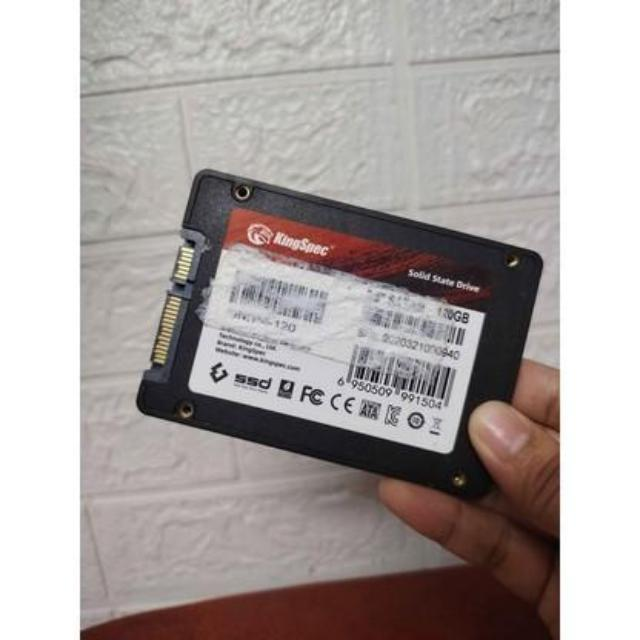DISK: (138, 167, 544, 504)
